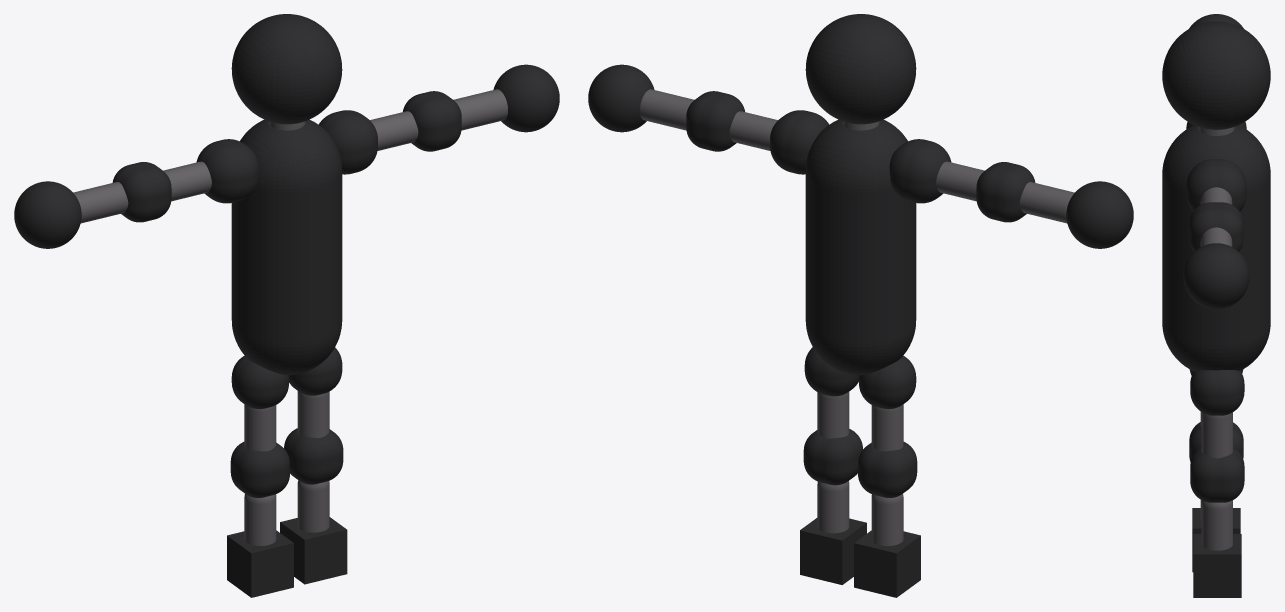
The model's file is PlayerModelWorking.fbx.
3 views of the same model, side by side, from view 1: azimuth 30°, elevation 25°; view 2: azimuth 150°, elevation 25°; view 3: azimuth 270°, elevation 25° (orthographic).
Visible parts, largest first — view 1: Body, Body.001, Body.008, Body.018, Body.007, Body.013, Body.011, Body.022, Body.009, Body.006, Body.016, Body.004 (+10 smaller); view 2: Body, Body.001, Body.008, Body.018, Body.007, Body.013, Body.011, Body.022, Body.009, Body.006, Body.016, Body.004 (+10 smaller); view 3: Body, Body.001, Body.007, Body.013, Body.016, Body.014, Body.004, Body.006, Body.017, Body.015, Body.022, Body.018 (+4 smaller).
Part boxes in pixels (left/top/right/bottom): Body: left=231, top=119, right=342, bottom=375; Body.001: left=231, top=14, right=342, bottom=124; Body.008: left=14, top=181, right=81, bottom=248; Body.018: left=227, top=530, right=293, bottom=597; Body.007: left=493, top=64, right=559, bottom=132; Body.013: left=280, top=517, right=347, bottom=584; Body.011: left=196, top=139, right=258, bottom=203; Body.022: left=230, top=442, right=289, bottom=497; Body.009: left=112, top=162, right=171, bottom=222; Body.006: left=403, top=91, right=461, bottom=151; Body.016: left=284, top=428, right=343, bottom=484; Body.004: left=318, top=110, right=377, bottom=174; Body: left=805, top=119, right=916, bottom=375; Body.001: left=805, top=14, right=916, bottom=124; Body.008: left=1066, top=181, right=1133, bottom=248; Body.018: left=854, top=530, right=920, bottom=597; Body.007: left=588, top=64, right=654, bottom=132; Body.013: left=800, top=518, right=866, bottom=584; Body.011: left=889, top=139, right=951, bottom=203; Body.022: left=858, top=442, right=917, bottom=497; Body.009: left=976, top=162, right=1035, bottom=222; Body.006: left=686, top=91, right=744, bottom=151; Body.016: left=803, top=429, right=862, bottom=485; Body.004: left=770, top=110, right=829, bottom=174; Body: left=1162, top=125, right=1270, bottom=371; Body.001: left=1162, top=21, right=1270, bottom=129; Body.007: left=1183, top=243, right=1249, bottom=309; Body.013: left=1193, top=534, right=1241, bottom=597; Body.016: left=1190, top=447, right=1244, bottom=502; Body.014: left=1190, top=370, right=1244, bottom=415; Body.004: left=1186, top=159, right=1246, bottom=211; Body.006: left=1189, top=202, right=1243, bottom=251; Body.017: left=1201, top=500, right=1232, bottom=550; Body.015: left=1201, top=412, right=1232, bottom=458; Body.022: left=1189, top=422, right=1243, bottom=461; Body.018: left=1192, top=508, right=1240, bottom=572.
Size of the model in its own units: 1009 by 1003 by 180.
2 materials, 2 textured.
